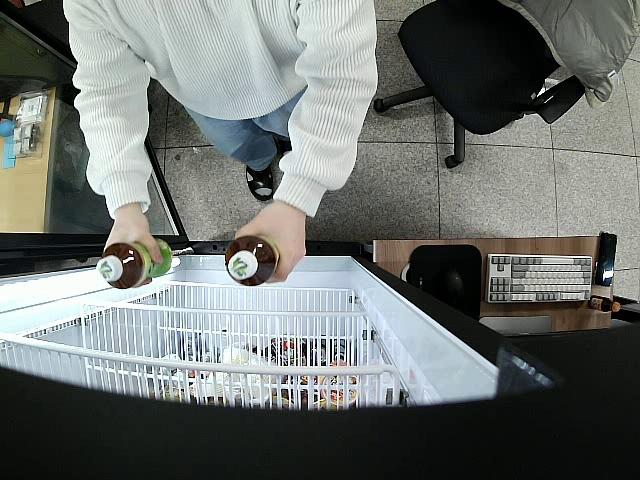00_hand: (235, 205, 306, 283), (104, 215, 164, 287)
19_17cha: (97, 237, 172, 290), (223, 234, 280, 287)
